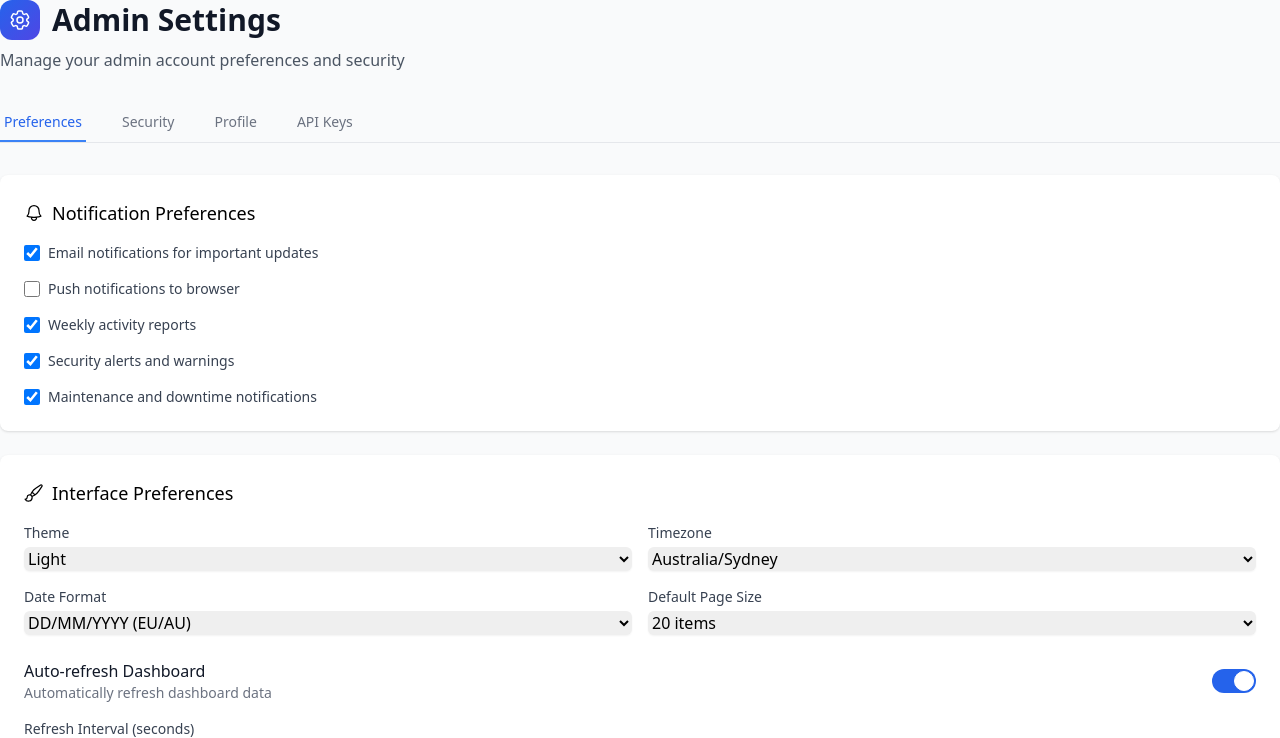
AdminSettings Component › switches between tabs correctly
expect the text "Email notifications for important updates" is shown: met, box [48,243,318,263]
Note: Switch to security tab
What coordinates should you click on to do the following:
click the button "Security"
I would click on:
 (148, 123)
Its box is [118,104,178,142].
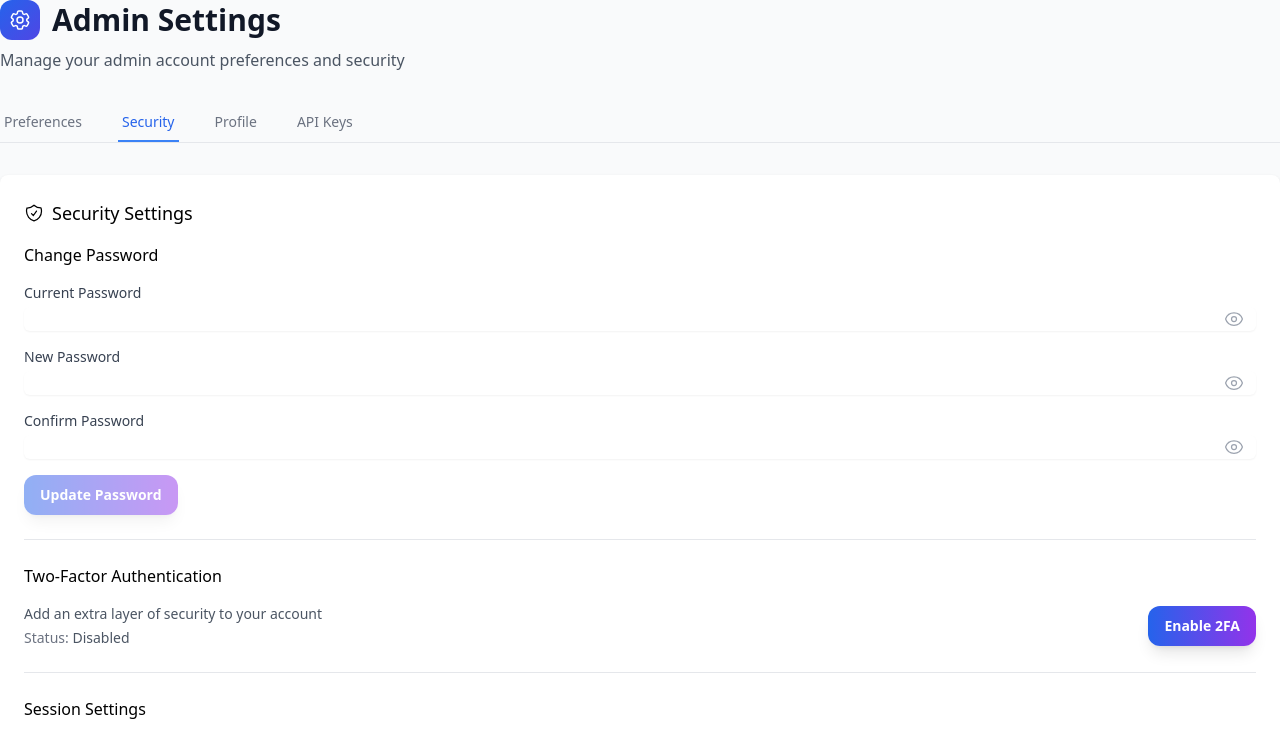
expect the heading "Change Password" is shown: met, box [24,244,158,266]
Note: Switch to profile tab
What coordinates should you click on to do the following:
click the button "Profile"
I would click on:
 (236, 123)
Its box is [210,104,261,142].
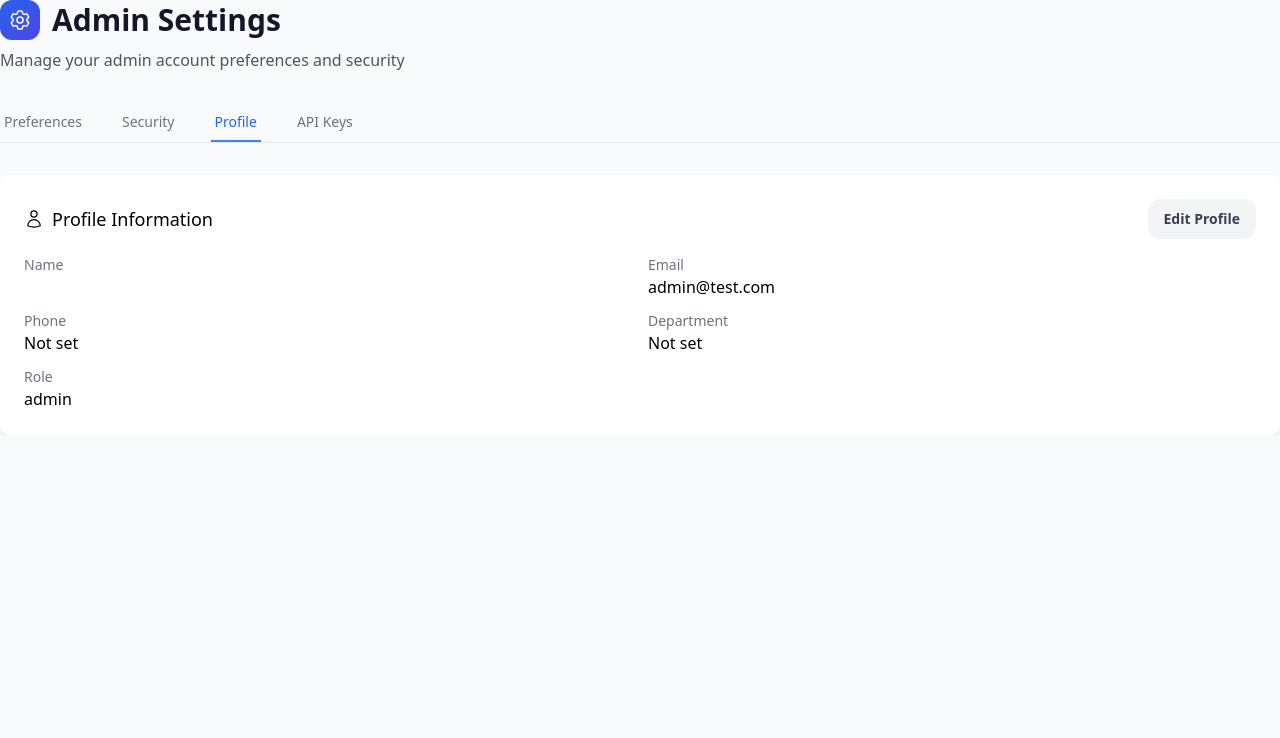
expect the heading "Profile Information" is shown: met, box [24,205,213,233]
Note: Switch to API keys tab
What coordinates should you click on to do the following:
click the button "API Keys"
I would click on:
 (325, 123)
Its box is [293,104,357,142].
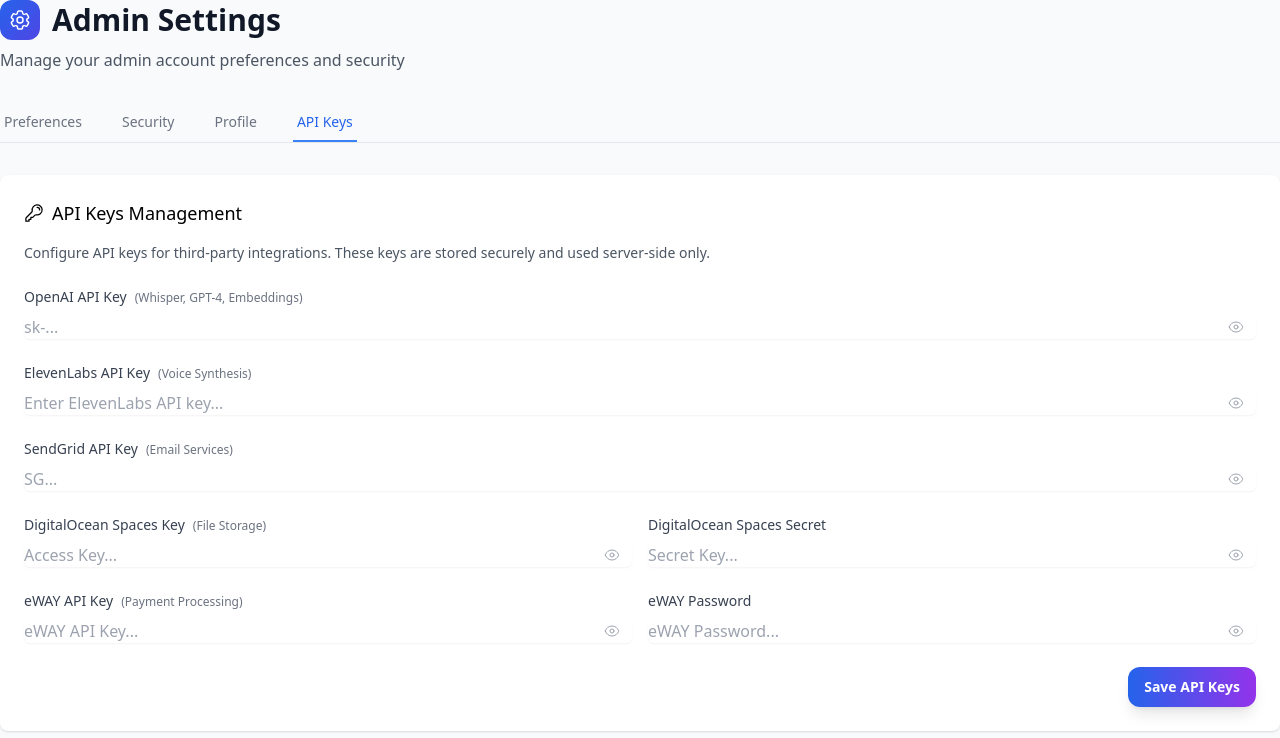
expect the heading "API Keys Management" is shown: met, box [24,201,242,225]
